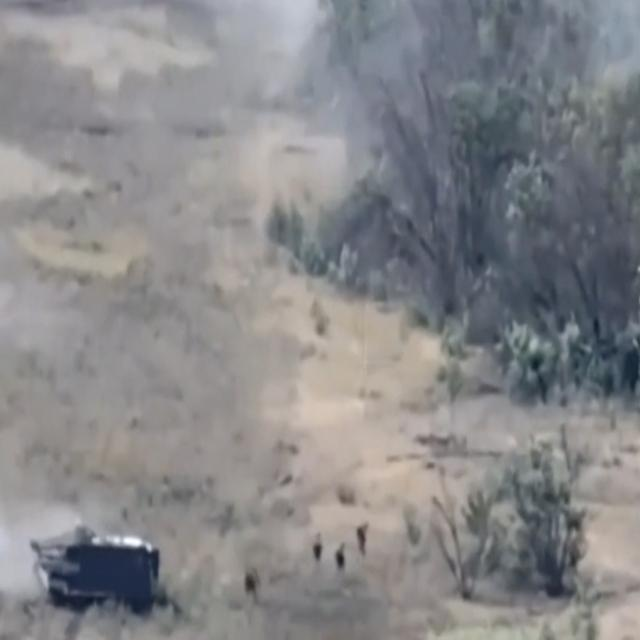infantry: (244, 564, 260, 603), (356, 520, 371, 560), (334, 540, 346, 580), (313, 532, 323, 573)
vehicle: (27, 520, 159, 615)
